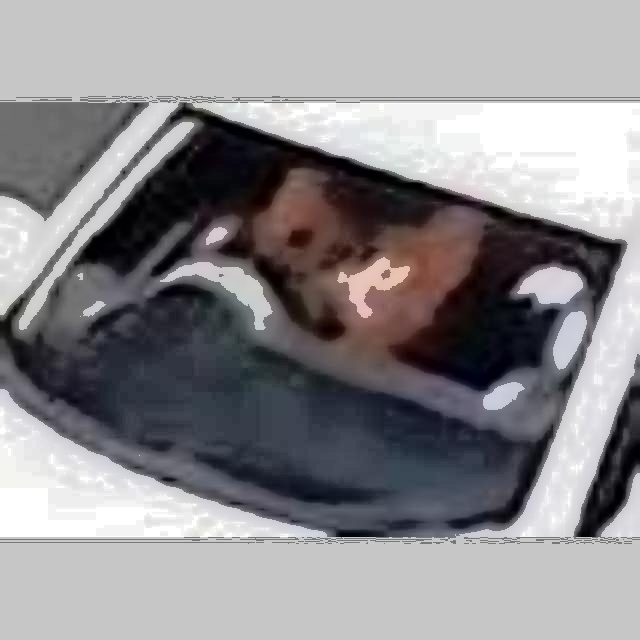tidak-pakai: (193, 139, 471, 357)
